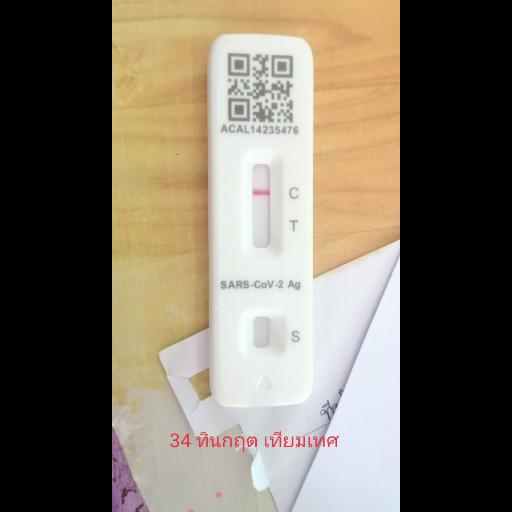Neg: (212, 37, 312, 401)
